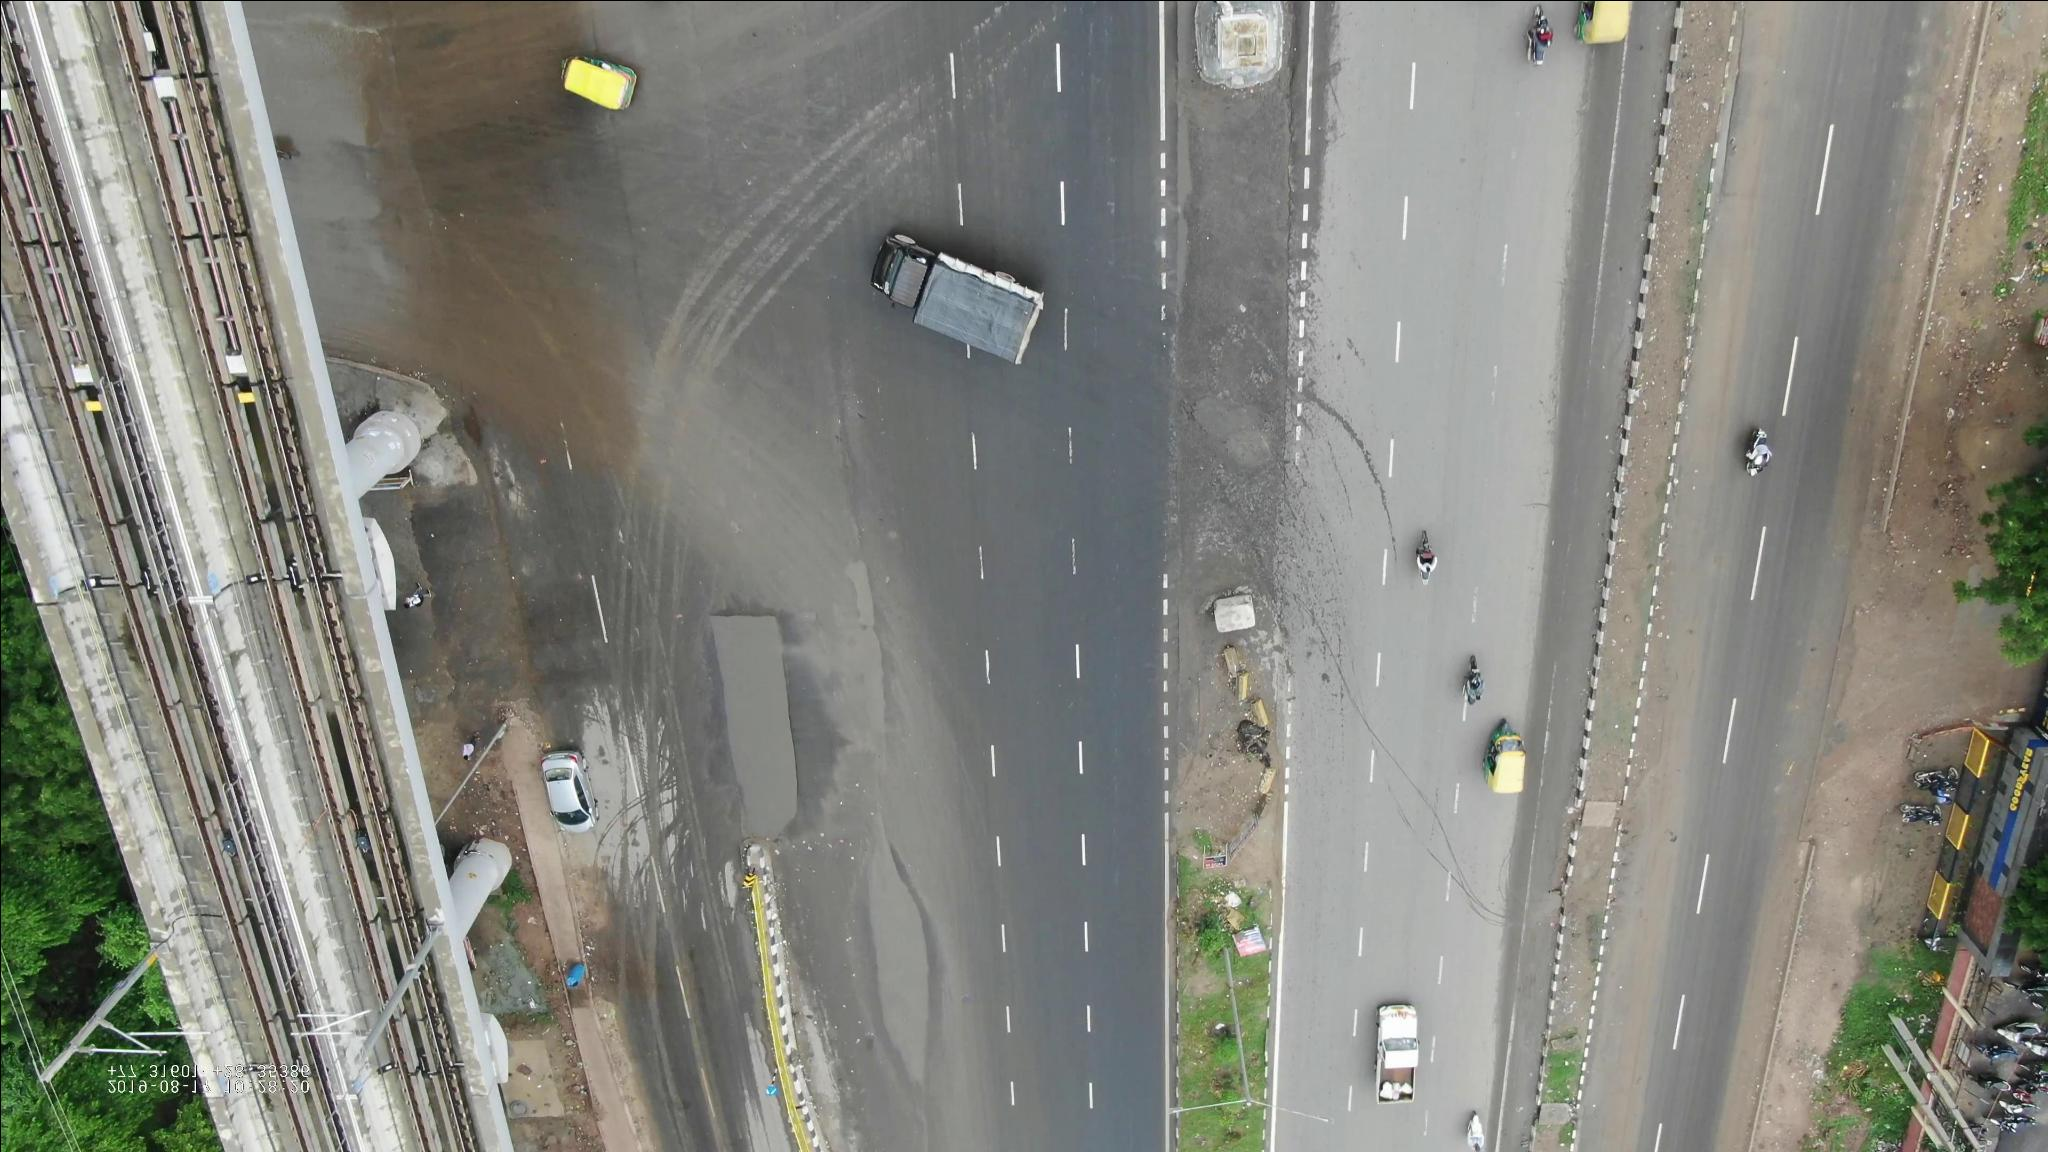Potholes: (698, 603, 821, 873), (850, 828, 952, 1124), (821, 492, 900, 757)
